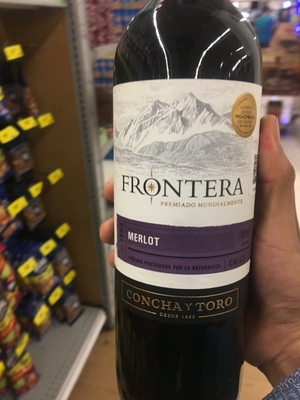frontera merlot: (104, 15, 264, 400)
